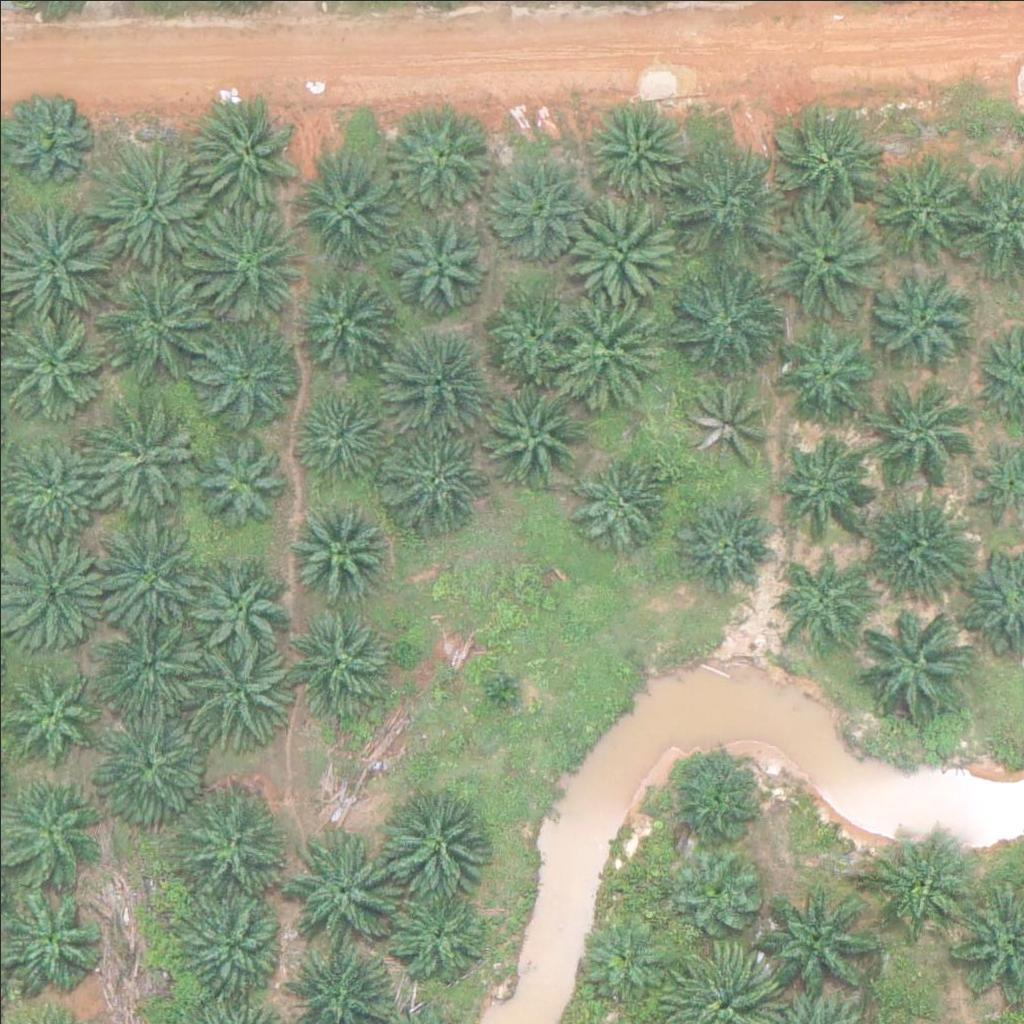Kelapa_Sawit: (87, 519, 200, 633), (93, 142, 206, 256), (196, 202, 309, 316), (170, 892, 283, 1006), (380, 101, 493, 215), (293, 149, 406, 263), (82, 402, 195, 515), (382, 781, 495, 894), (381, 323, 494, 436), (769, 102, 882, 215), (856, 612, 969, 725), (190, 318, 302, 432), (858, 380, 970, 494), (90, 698, 202, 811), (101, 269, 213, 382), (185, 92, 297, 205), (179, 790, 291, 903), (179, 642, 291, 755), (291, 833, 403, 946), (477, 379, 589, 492), (554, 296, 666, 409), (567, 198, 679, 311), (665, 143, 777, 256), (669, 264, 781, 377), (765, 888, 877, 1001), (771, 202, 883, 315), (870, 145, 982, 258), (867, 484, 979, 597), (1, 661, 101, 762), (190, 426, 290, 527), (189, 556, 289, 657), (388, 883, 488, 984), (388, 205, 488, 306), (487, 161, 587, 262), (573, 450, 673, 551), (777, 430, 877, 531), (875, 268, 975, 369), (99, 614, 199, 714), (288, 606, 388, 706), (287, 497, 387, 597), (287, 381, 387, 481), (291, 265, 391, 365), (385, 421, 485, 521), (588, 99, 688, 199), (667, 749, 767, 849), (676, 496, 776, 596), (777, 327, 877, 427), (870, 828, 970, 928), (489, 290, 577, 378), (675, 854, 763, 942), (578, 919, 666, 1007), (7, 88, 94, 176), (680, 377, 767, 465), (778, 547, 865, 635), (480, 668, 530, 719)
